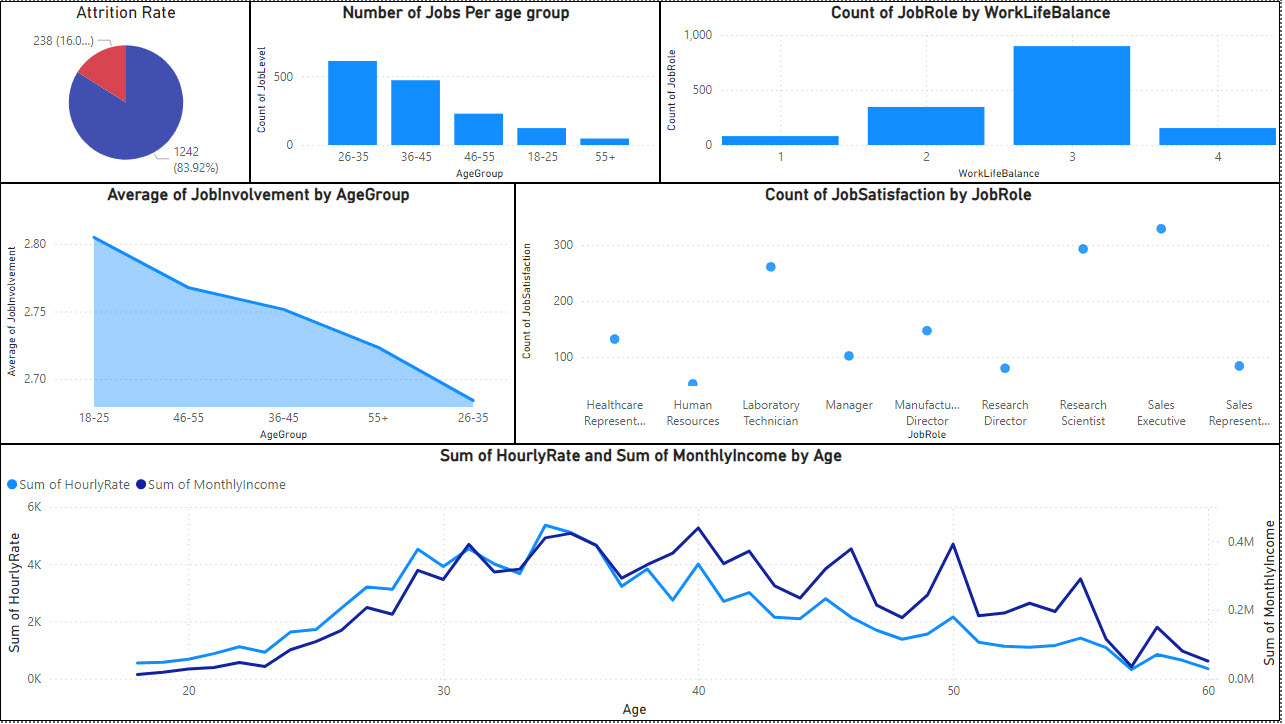

What the dashboard file says about the page in this screenshot:
{"tool":"powerbi","page":{"name":"Page 1","canvas":[1280,720],"ordinal":0},"visuals":[{"type":"pieChart","title":"Attrition Rate","fields":{"Category":["employee_data.Attrition"],"Y":["Sum(employee_data.EmployeeCount)"]},"box":[0,0,250,181.7],"z":0},{"type":"lineChart","fields":{"Category":["employee_data.Age"],"Y":["Sum(employee_data.HourlyRate)"],"Y2":["Sum(employee_data.MonthlyIncome)"]},"box":[0,443.3,1280,276.7],"z":1000},{"type":"stackedAreaChart","fields":{"Category":["employee_data.AgeGroup"],"Y":["Avg(employee_data.JobInvolvement)"]},"box":[0,181.7,515,261.7],"z":2000},{"type":"clusteredColumnChart","fields":{"Category":["employee_data.WorkLifeBalance"],"Y":["CountNonNull(employee_data.JobRole)"]},"box":[660,0,620,181.7],"z":3000},{"type":"scatterChart","fields":{"Y":["CountNonNull(employee_data.JobSatisfaction)"],"X":["employee_data.JobRole"]},"box":[515,182,765,261],"z":4000},{"type":"lineClusteredColumnComboChart","title":"Number of Jobs Per age group","fields":{"Category":["employee_data.AgeGroup"],"Y":["CountNonNull(employee_data.JobLevel)"]},"box":[250,0,410,182.3],"z":5000}]}

Visuals, with their boxes in screenshot pixels (x1, y1, x2, y2), scaled from the page's 1280x720 canvas onto the 1285x724 screenshot:
"Attrition Rate" pieChart: x1=0, y1=0, x2=251, y2=183
lineChart - employee_data.Age x Sum(employee_data.HourlyRate): x1=0, y1=446, x2=1284, y2=723
stackedAreaChart - employee_data.AgeGroup x Avg(employee_data.JobInvolvement): x1=0, y1=183, x2=517, y2=446
clusteredColumnChart - employee_data.WorkLifeBalance x CountNonNull(employee_data.JobRole): x1=663, y1=0, x2=1284, y2=183
scatterChart - CountNonNull(employee_data.JobSatisfaction) x employee_data.JobRole: x1=517, y1=183, x2=1284, y2=445
"Number of Jobs Per age group" lineClusteredColumnComboChart: x1=251, y1=0, x2=663, y2=183
